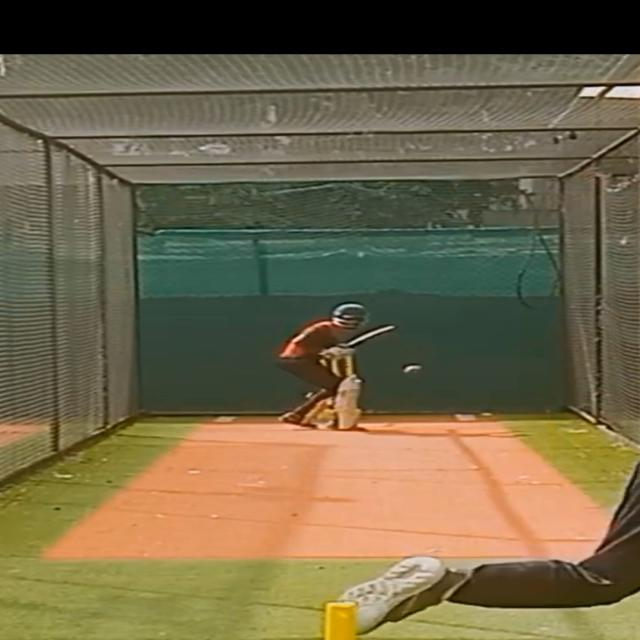ball: (401, 362, 427, 380)
